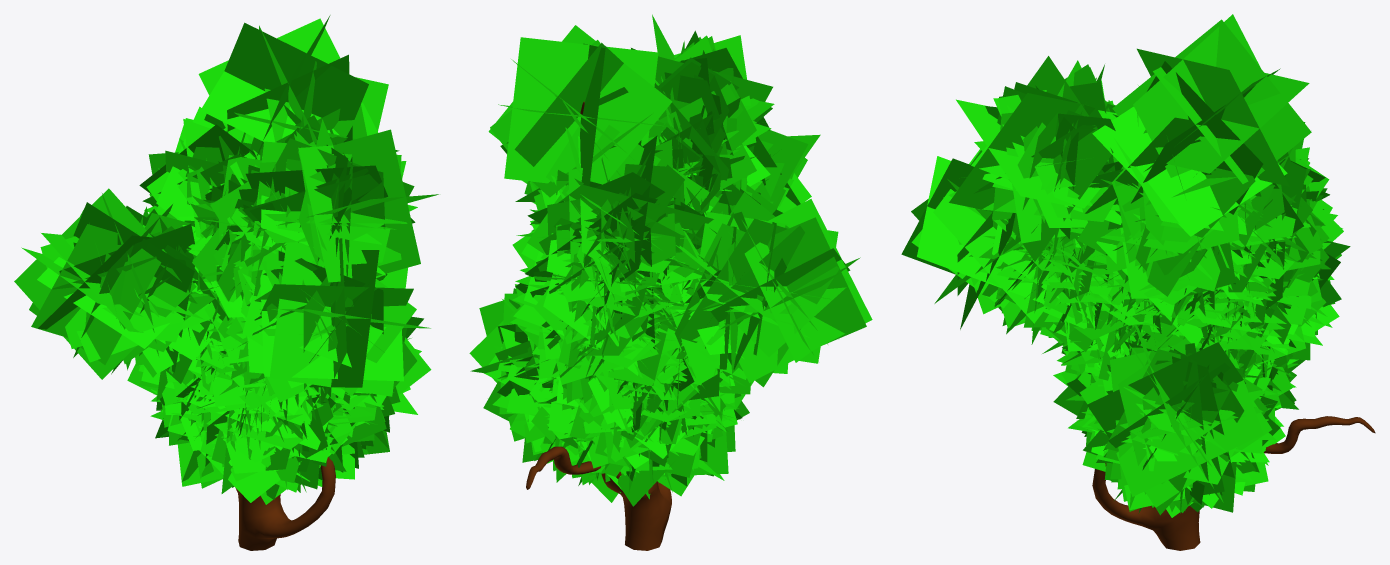
The model's file is ThickTree1.fbx.
The picture shows the model from 3 angles, left to right: view 1: azimuth 30°, elevation 25°; view 2: azimuth 150°, elevation 25°; view 3: azimuth 270°, elevation 25°; orthographic projection. The views are drawn at different scales.
Parts seen in each view (by area): view 1: Thick Tree 1.001; view 2: Thick Tree 1.001; view 3: Thick Tree 1.001.
Part boxes in pixels (x1,y1,x2,y2): Thick Tree 1.001: (14, 15, 438, 550); Thick Tree 1.001: (469, 14, 872, 550); Thick Tree 1.001: (901, 14, 1375, 550).
Bounding box in the file's own units: 2621 × 3238 × 2601.
